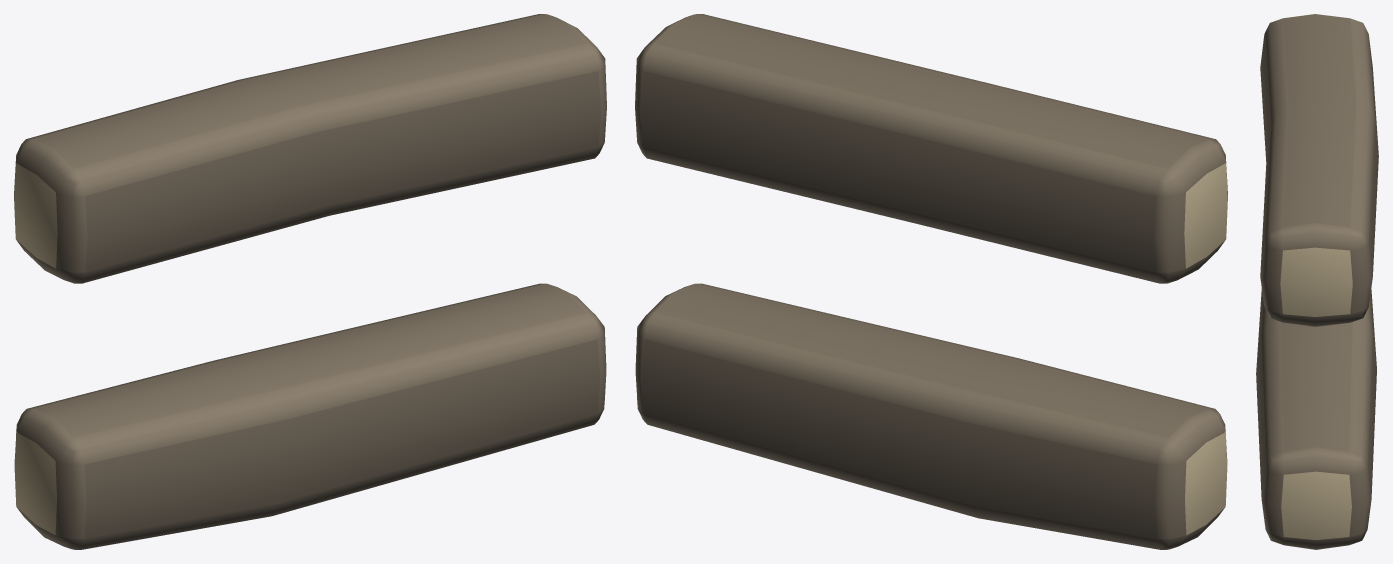
File: DryWood_Fence_Planks.fbx
3 renders of one model, left to right at view 1: azimuth 30°, elevation 25°; view 2: azimuth 150°, elevation 25°; view 3: azimuth 270°, elevation 25°, orthographic. The views are drawn at different scales.
Visible parts, largest first — view 1: DryWood_Fence_Planks_LOD0; view 2: DryWood_Fence_Planks_LOD0; view 3: DryWood_Fence_Planks_LOD0.
Boxes of the visible parts, left/top/right/bottom form: DryWood_Fence_Planks_LOD0: left=14, top=14, right=606, bottom=549; DryWood_Fence_Planks_LOD0: left=635, top=14, right=1227, bottom=549; DryWood_Fence_Planks_LOD0: left=1256, top=14, right=1378, bottom=549.
Size of what is drawn, in the model's own units: 1.07 by 0.7599 by 0.249.
